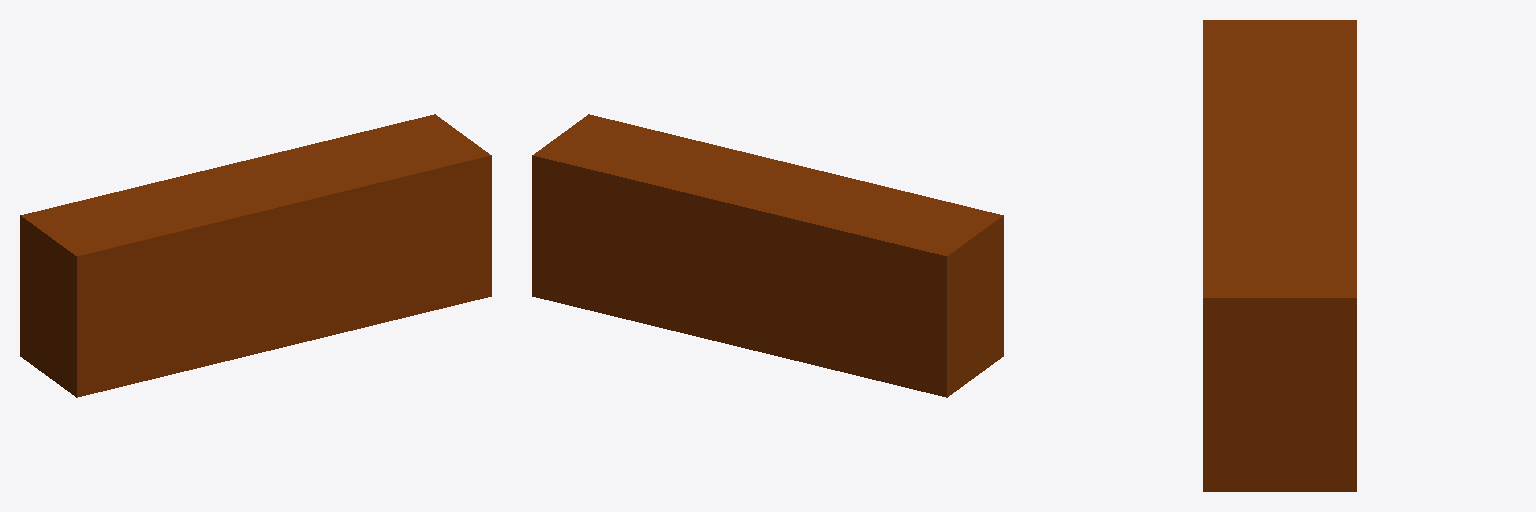
URDF robot description (handle_head):
<?xml version="1.0"?>
<robot name="handle_head">

  <link name="handle_head">
    <!-- Handle -->
    <visual>
      <origin xyz="0 0 0" rpy="0 0 0"/>
      <geometry>
        <box size="0.1074848935944955 0.025257378716715247 0.03495842490147468"/>
      </geometry>
      <material name="brown">
        <color rgba="0.55 0.27 0.07 1.0"/>
      </material>
    </visual>
    <collision>
      <origin xyz="0 0 0" rpy="0 0 0"/>
      <geometry>
        <box size="0.1074848935944955 0.025257378716715247 0.03495842490147468"/>
      </geometry>
    </collision>

    <inertial>
      <origin xyz="0 0 0" rpy="0 0 0"/>
      <mass value="0.03927690031205339"/>
      <inertia ixx="6.08800677984892e-06" iyy="4.181384054565526e-05" izz="3.9901853175182287e-05" ixy="0" ixz="0" iyz="0"/>
    </inertial>
  </link>

</robot>

--- Facts derived from the render (not from the file) ---
The picture shows the robot from 3 angles, left to right: view 1: azimuth 30°, elevation 25°; view 2: azimuth 150°, elevation 25°; view 3: azimuth 270°, elevation 25°; orthographic projection.
Model handle_head with 1 links and 0 joints (none), rooted at handle_head, posed all joints at 0.
Links seen in each view (by area): view 1: handle_head; view 2: handle_head; view 3: handle_head.
Boxes of the visible links, x1=… form: handle_head: x1=20, y1=114, x2=491, y2=397; handle_head: x1=532, y1=114, x2=1003, y2=397; handle_head: x1=1203, y1=20, x2=1356, y2=491.
Size in the robot's own frame: 0.1075 by 0.0253 by 0.035 metres.
Geometry: primitives only (box / cylinder / sphere), no mesh files.
